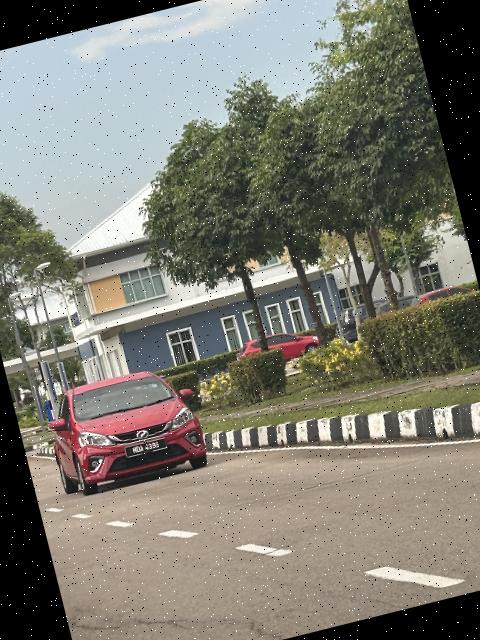License_Plate: (128, 438, 170, 460)
car: (38, 358, 213, 501)
